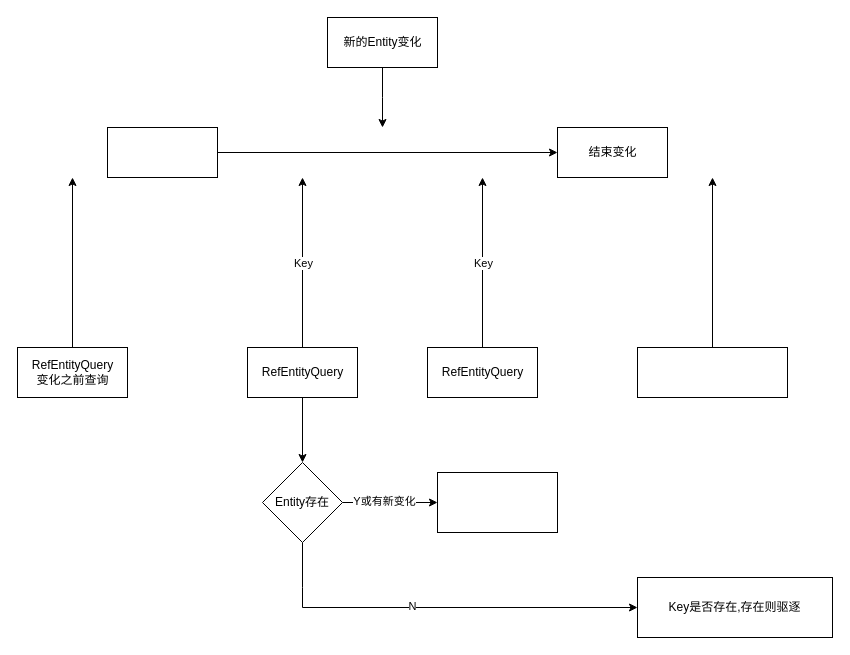
Some shapes in this 850 by 655 pixel diagram are drawn without their labels. Each missing label, with the centre of its shape:
"Entity变化" goes at [162,152].
"RefEntityQuery 变化后查询 Key存在则驱逐" goes at [712,372].
"更新Key并驱逐" goes at [497,502].
